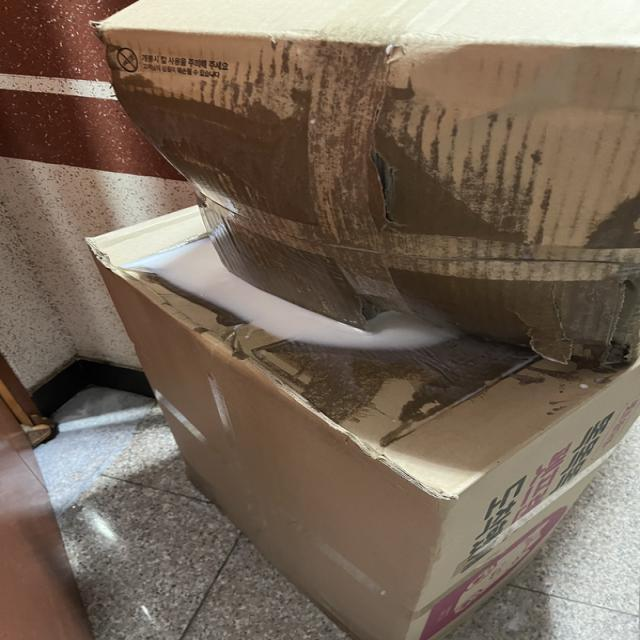wet: (116, 72, 634, 359)
